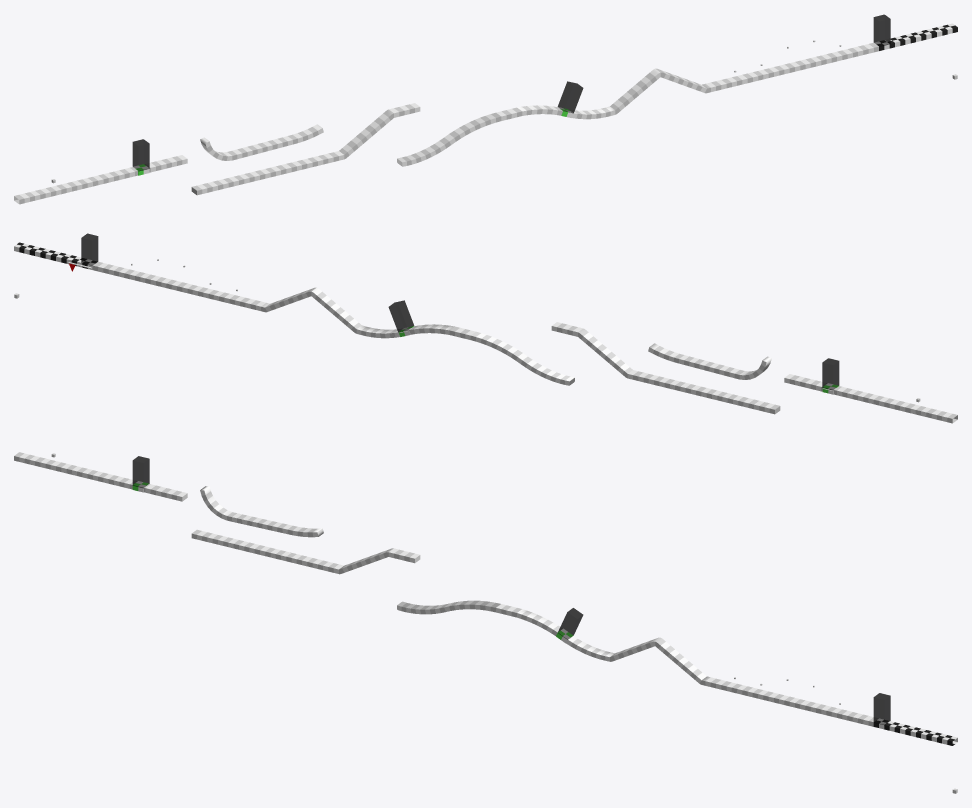
3 renders of one model, top to bottom at view 1: azimuth 30°, elevation 25°; view 2: azimuth 150°, elevation 25°; view 3: azimuth 330°, elevation 25°, orthographic.
Parts seen in each view (by area): view 1: Floor_1, Floor_11, Checkpoint_2, Finish, Checkpoint_1; view 2: Floor_1, Floor_11, Checkpoint_2, Finish, Checkpoint_1; view 3: Floor_1, Floor_11.
Part boxes in pixels (<box>): Floor_1: <box>14,42,878,204</box>; Floor_11: <box>874,23,957,50</box>; Checkpoint_2: <box>557,81,583,113</box>; Finish: <box>873,14,890,46</box>; Checkpoint_1: <box>132,139,149,171</box>; Floor_1: <box>93,261,957,423</box>; Floor_11: <box>14,242,97,269</box>; Checkpoint_2: <box>388,300,414,332</box>; Finish: <box>81,233,98,265</box>; Checkpoint_1: <box>822,358,839,390</box>; Floor_1: <box>14,452,877,726</box>; Floor_11: <box>873,718,957,745</box>.
Size of what is drawn, in the model's own units: 179 by 24.46 by 2.27.
2 materials, 1 textured.
